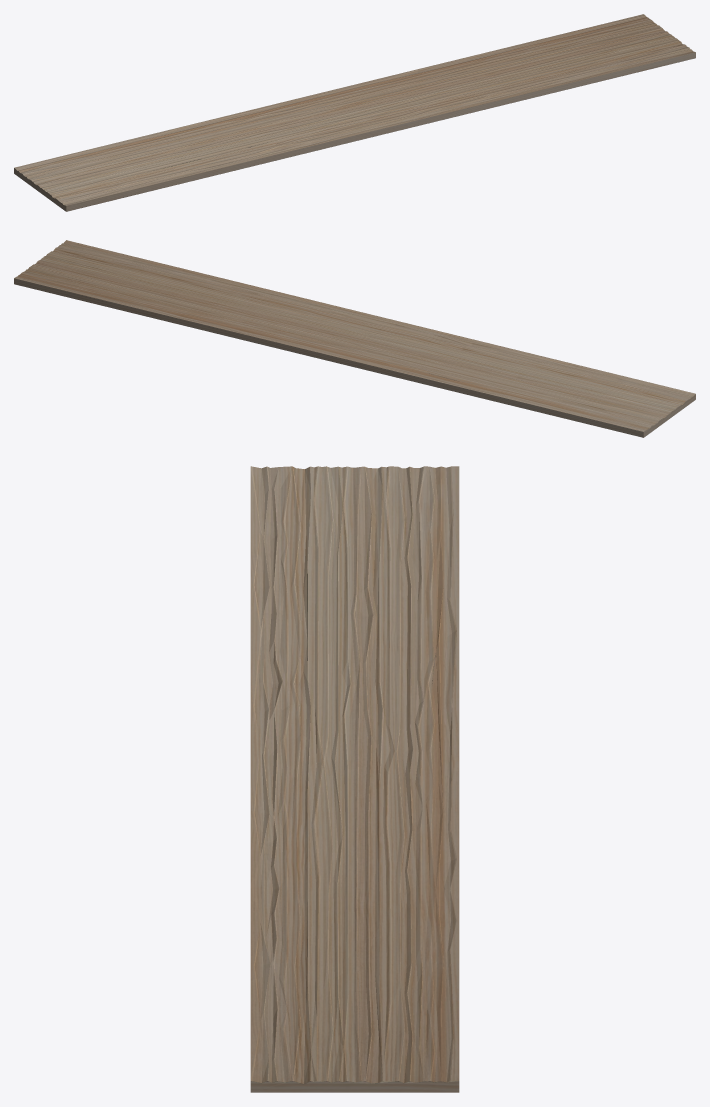
The picture shows the model from 3 angles, top to bottom: view 1: azimuth 30°, elevation 25°; view 2: azimuth 150°, elevation 25°; view 3: azimuth 270°, elevation 25°; orthographic projection. The views are drawn at different scales.
Visible parts, largest first — view 1: h5; view 2: h5; view 3: h5.
Part boxes in pixels (box(x1,y1,x2,y2)): h5: box(14, 14, 695, 211); h5: box(14, 240, 695, 437); h5: box(250, 466, 459, 1092).
Size of the model in its own units: 2158 by 19.47 by 310.
Materials: 1 (1 with a texture image).
